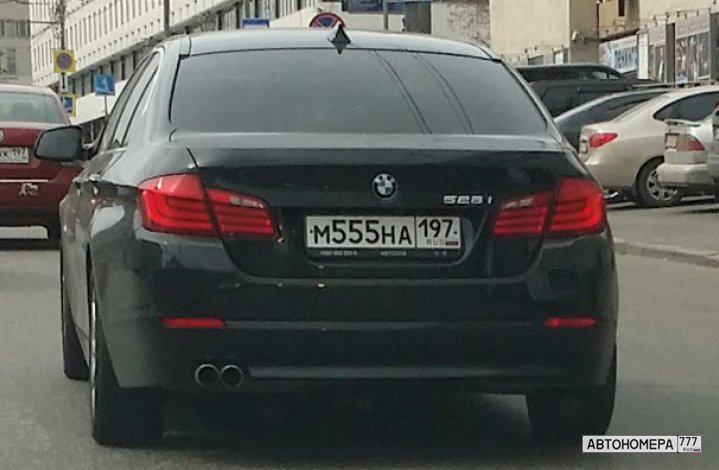number_plate: (304, 216, 463, 254)
